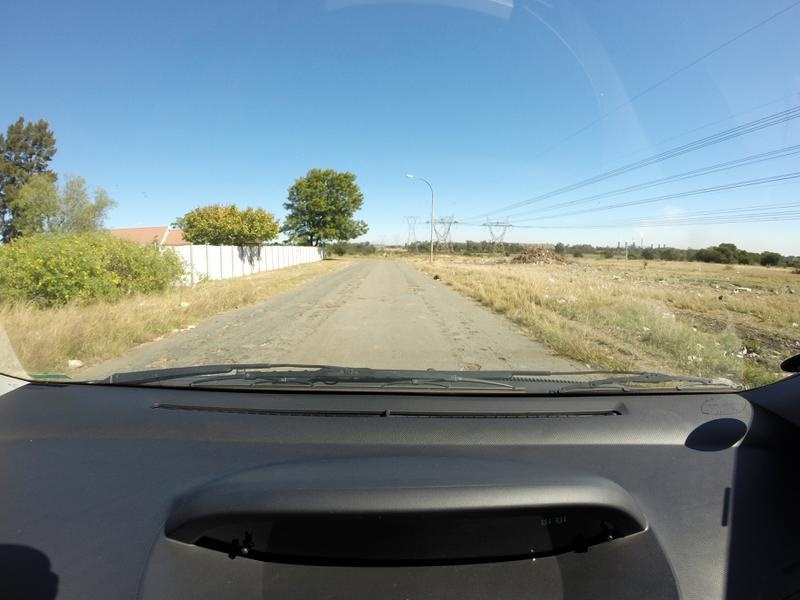pothole: (147, 348, 174, 368), (257, 334, 279, 348), (211, 354, 234, 367), (457, 359, 481, 370), (223, 313, 247, 324), (312, 302, 340, 307), (405, 284, 420, 292), (211, 346, 228, 351), (495, 357, 508, 361)
